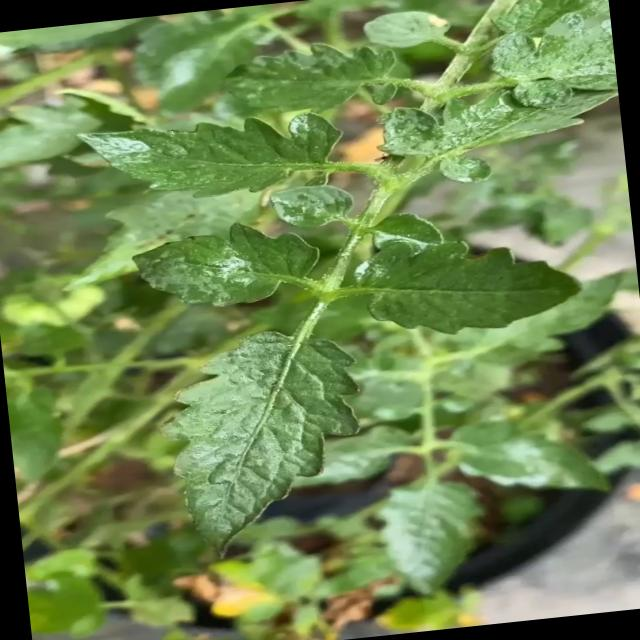Tomato_Healthy: (166, 324, 383, 553), (360, 222, 602, 340), (126, 212, 336, 320)
